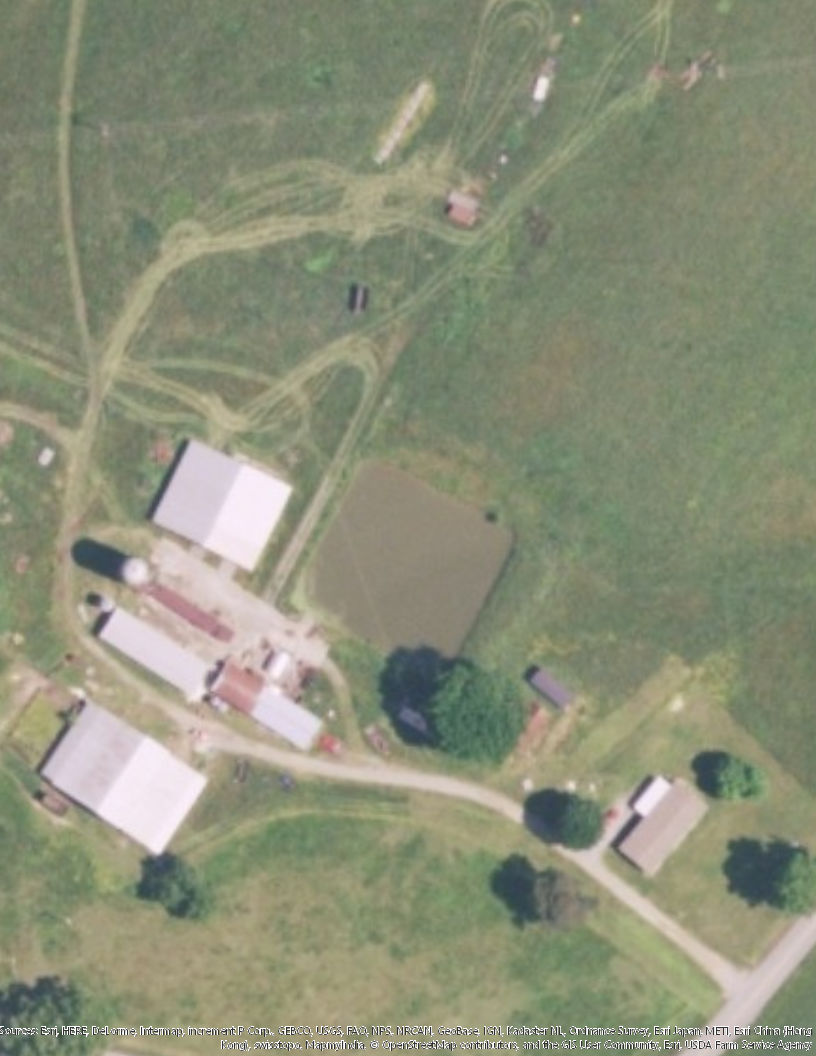cafo: (33, 694, 219, 870), (144, 427, 299, 580), (208, 647, 350, 762), (91, 594, 220, 706)
